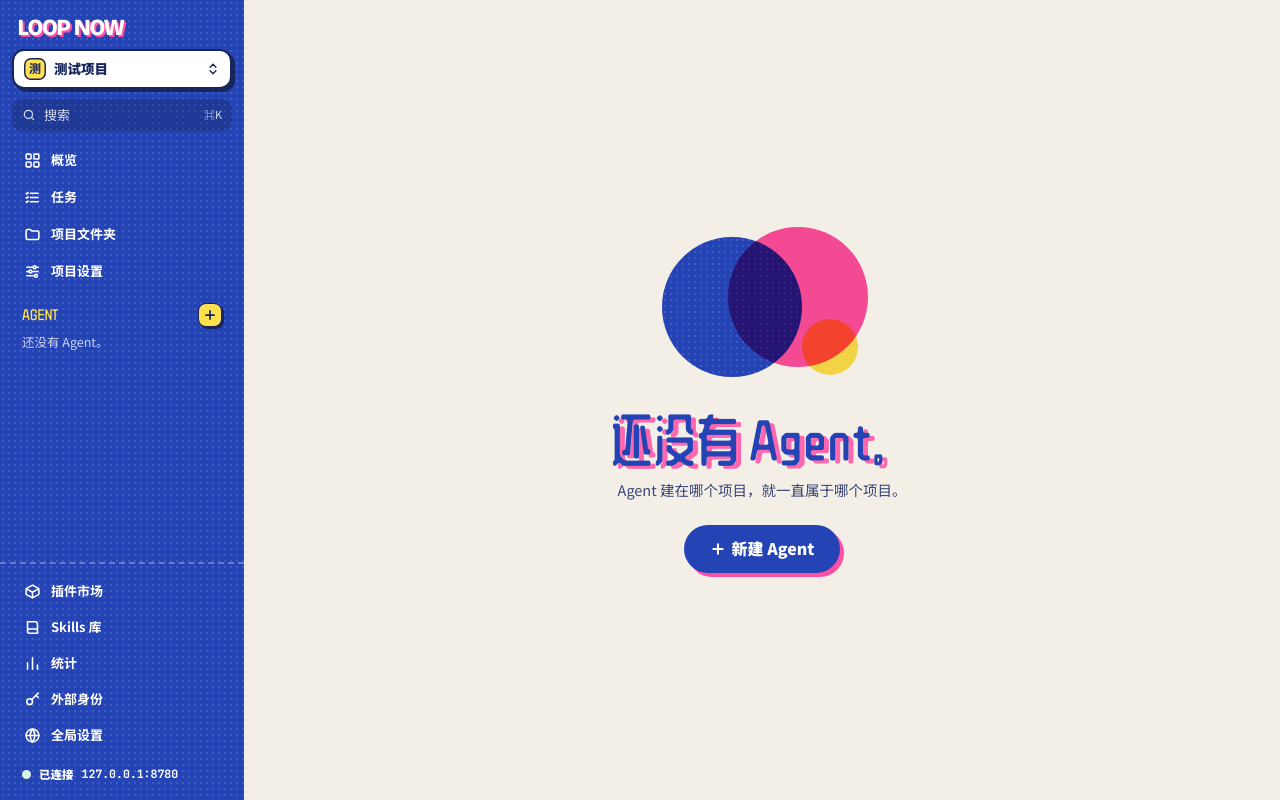
Test: 连接与错误展示 › 校验失败时在输入项旁显示原因，并保留已填写的内容
Click the button named "新建 Agent" at (210, 315), box [198, 303, 222, 327]
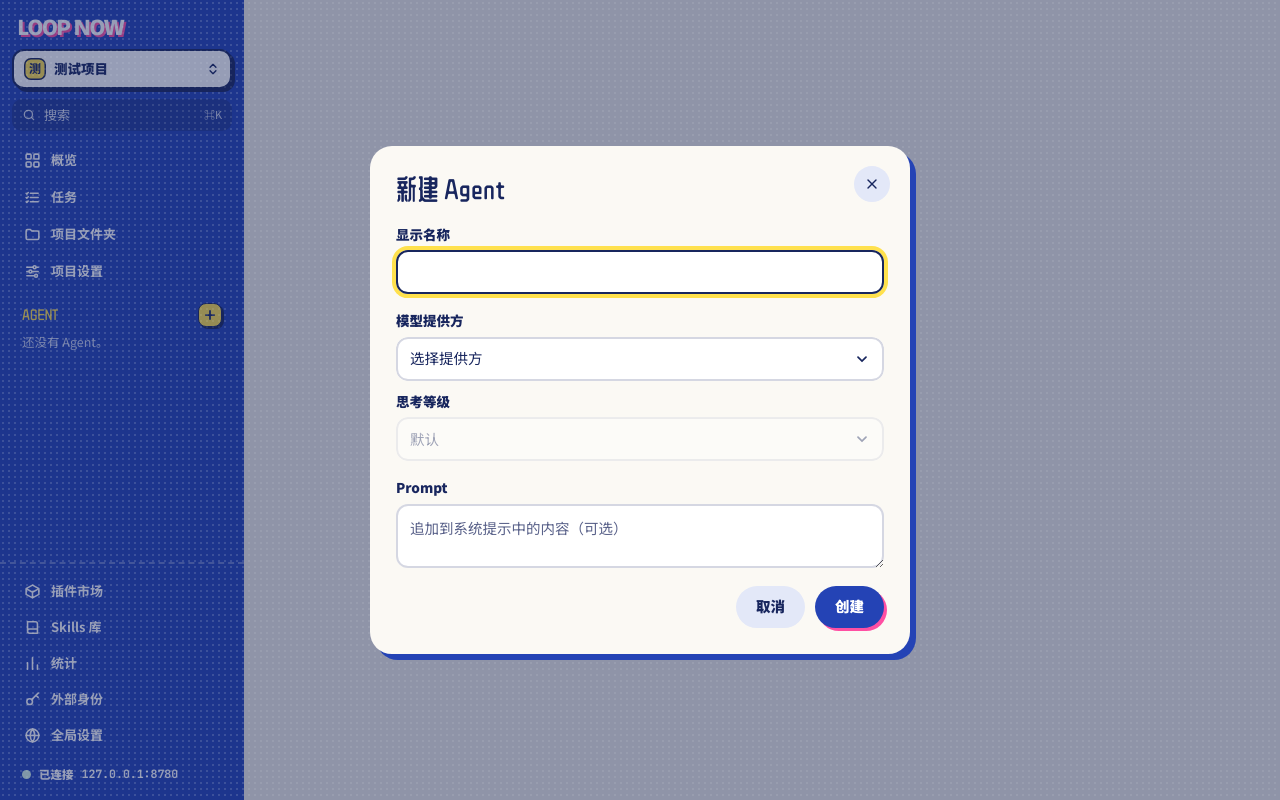
Type "很长的名字" into the field labelled "显示名称" at (640, 272), box [396, 250, 884, 294]
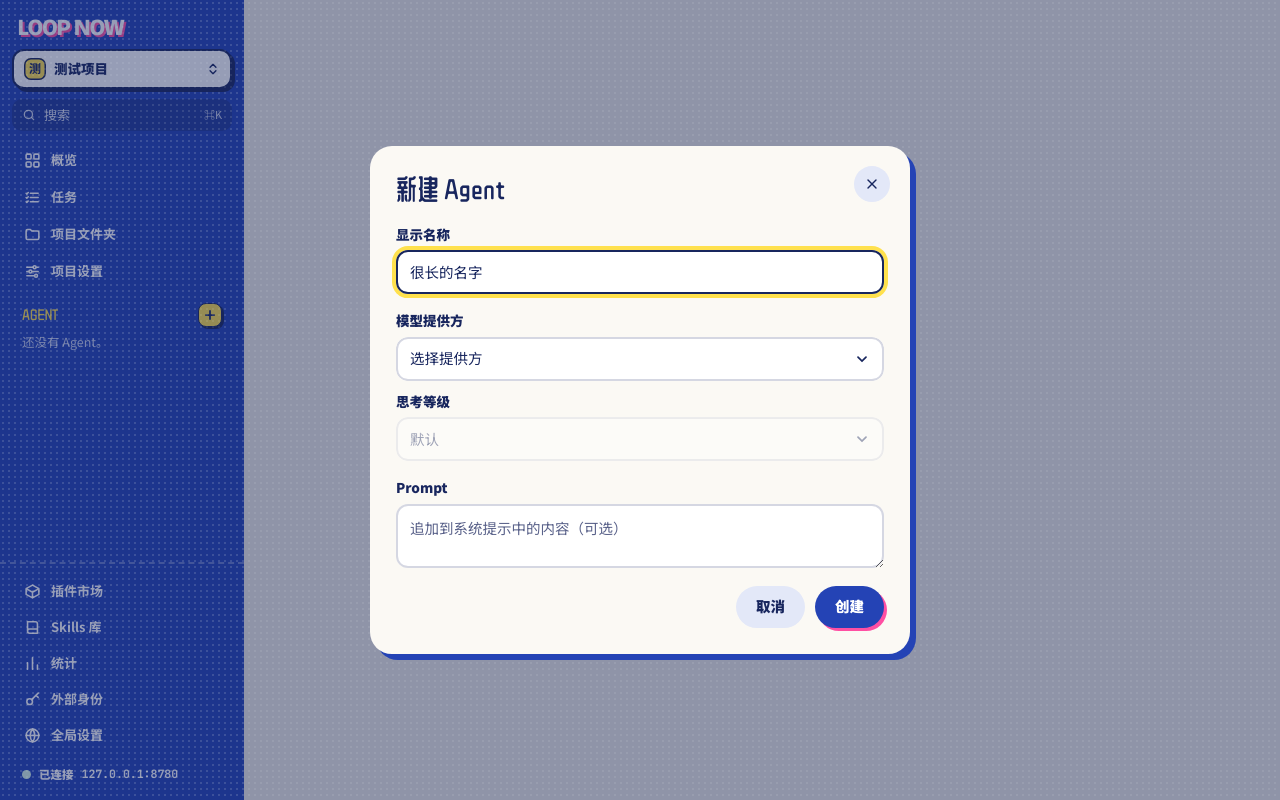
Select "anthropic（1 个模型）" in the dropdown labelled "模型提供方" at (640, 359), box [396, 337, 884, 381]
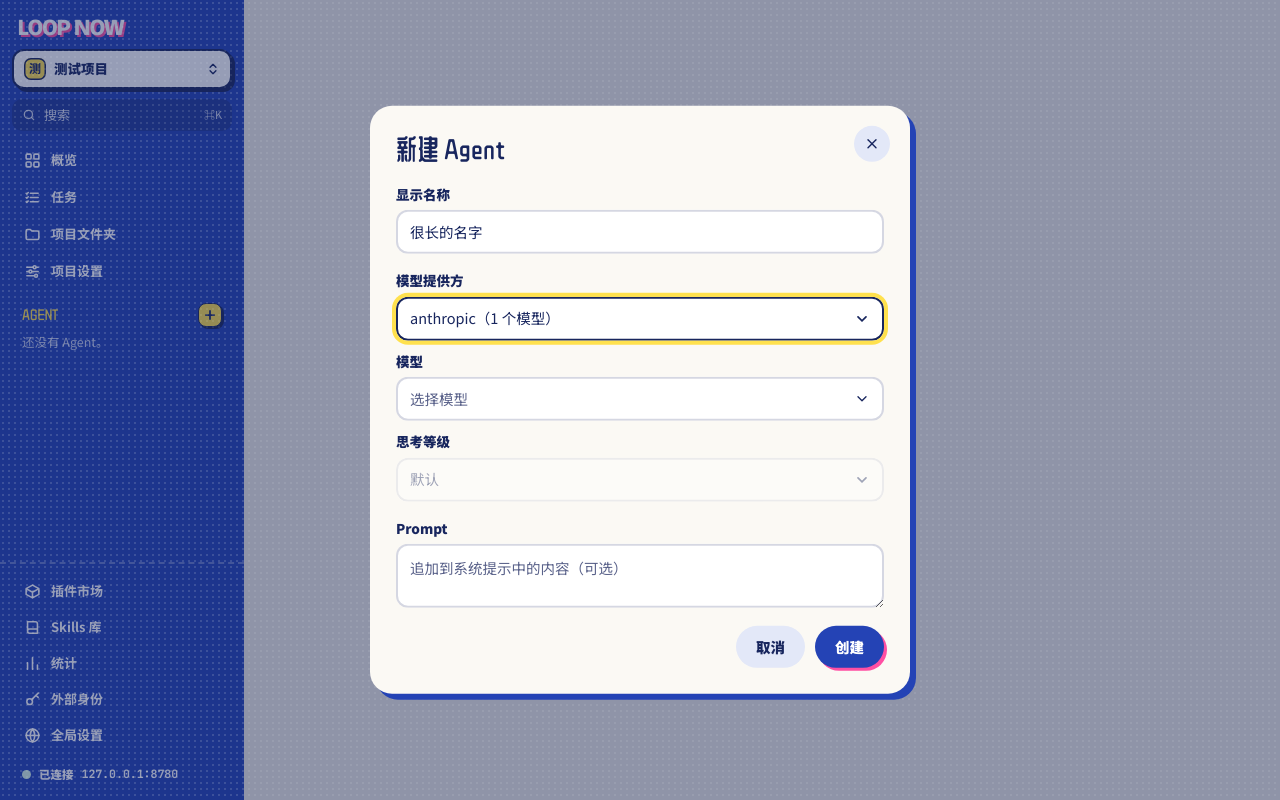
Click the dropdown labelled "模型" at (439, 398), box [396, 377, 884, 421]
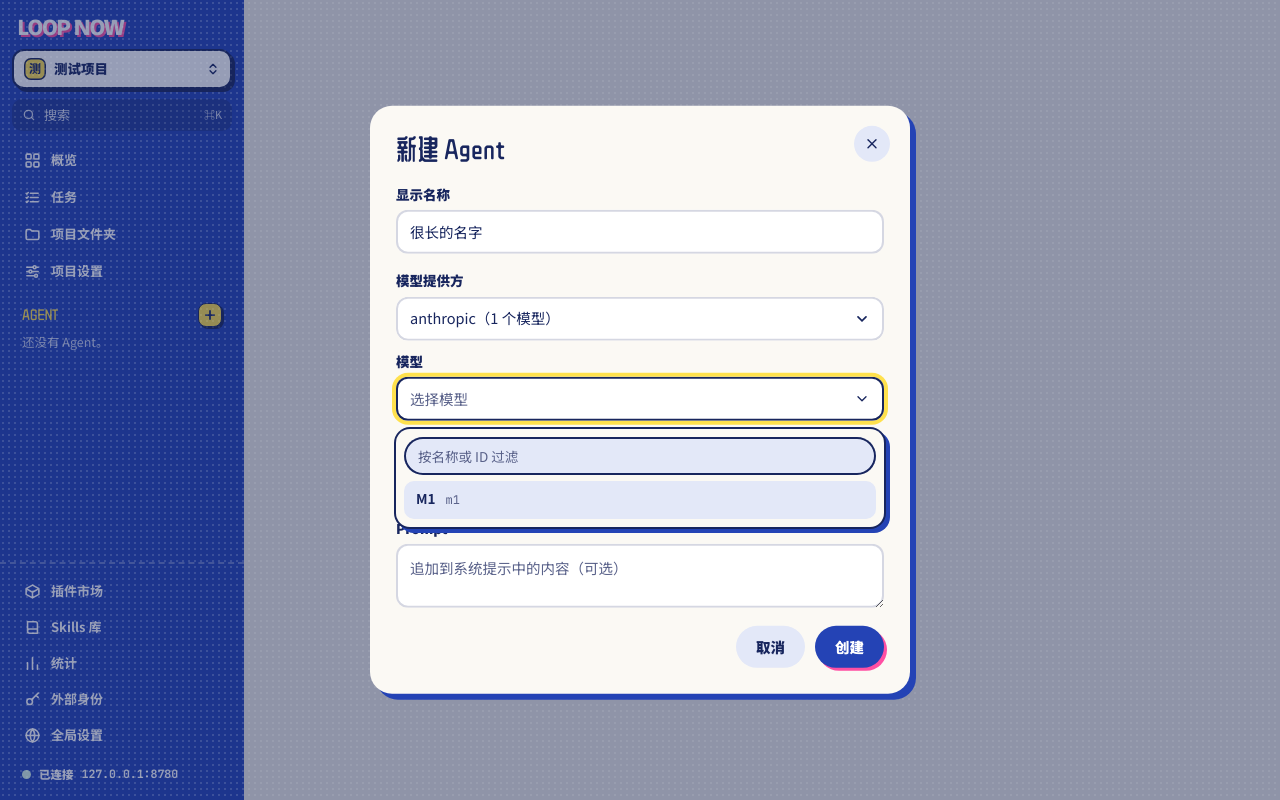
Click the option "M1 m1" at (426, 498), box [404, 481, 876, 519]
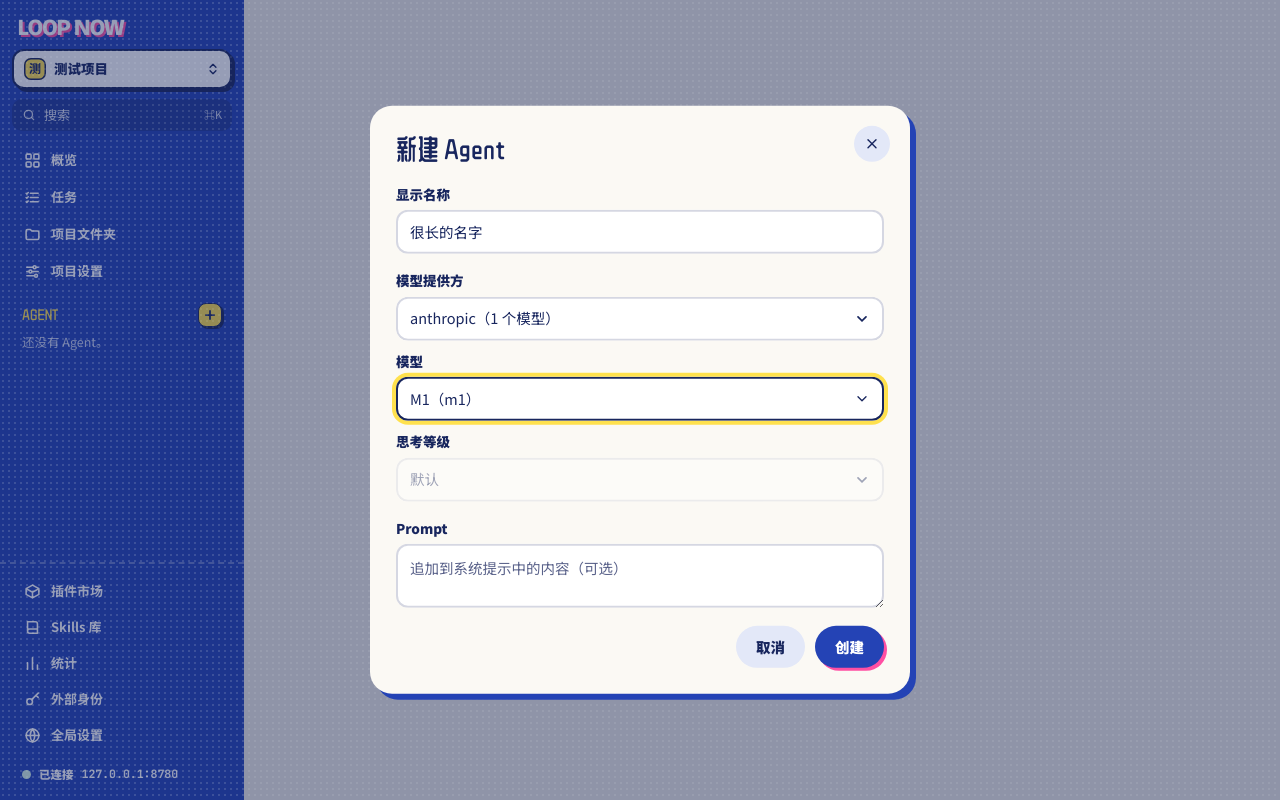
Click the button "创建" at (850, 647), box [815, 626, 884, 668]
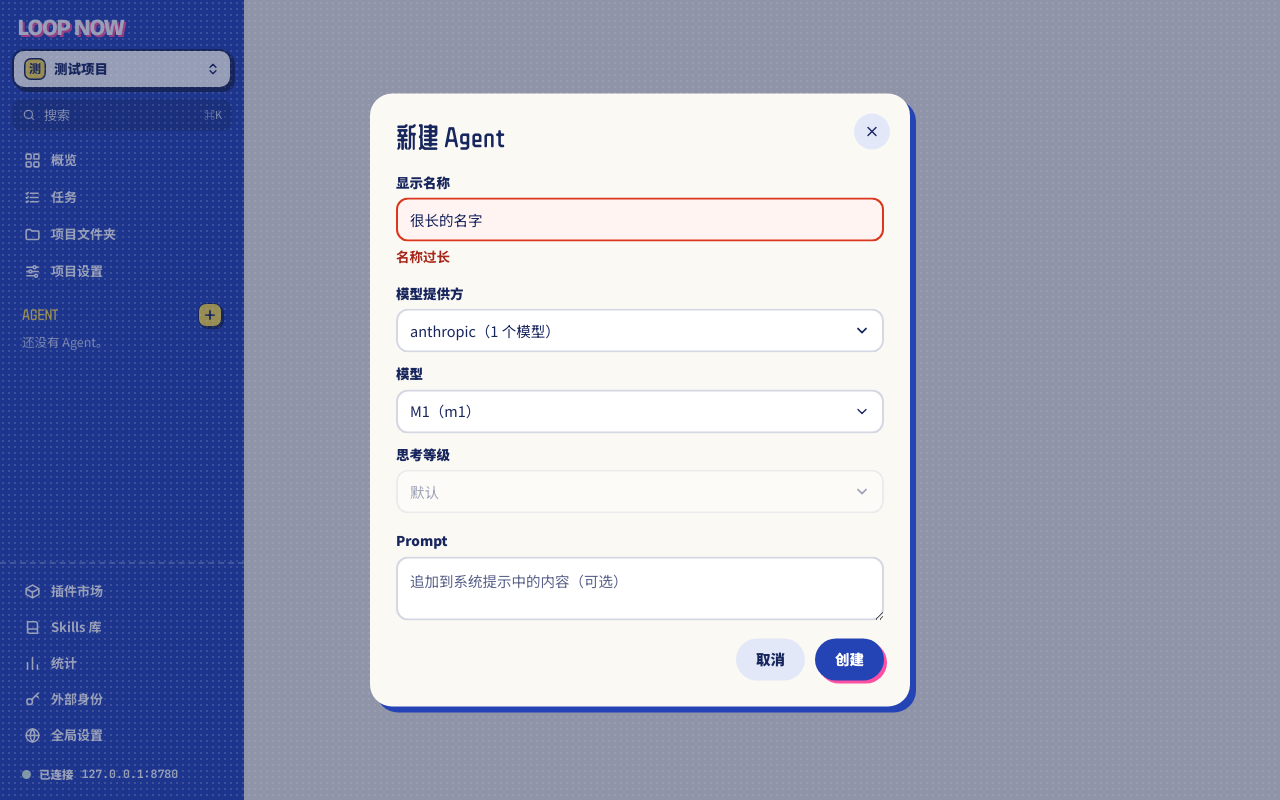
Now the text "名称过长" is shown, box [396, 248, 450, 265]
